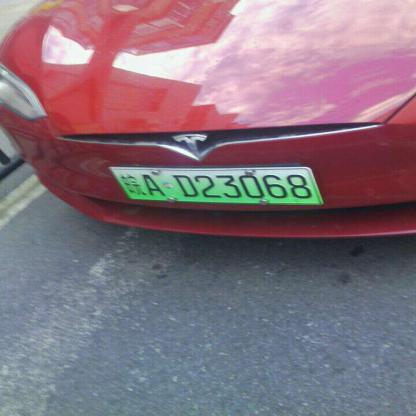lp: (110, 168, 320, 203)
